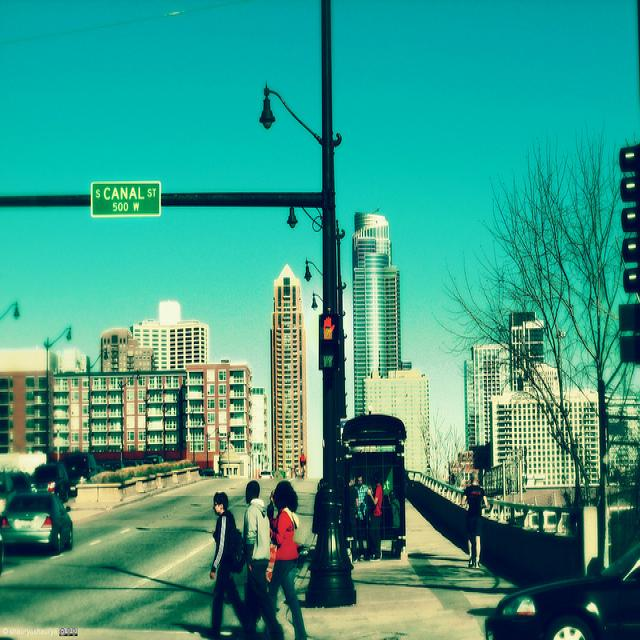Vehicle: (480, 537, 640, 632), (1, 491, 75, 556), (55, 450, 98, 494), (29, 462, 72, 504), (0, 470, 32, 515), (142, 454, 164, 464)
